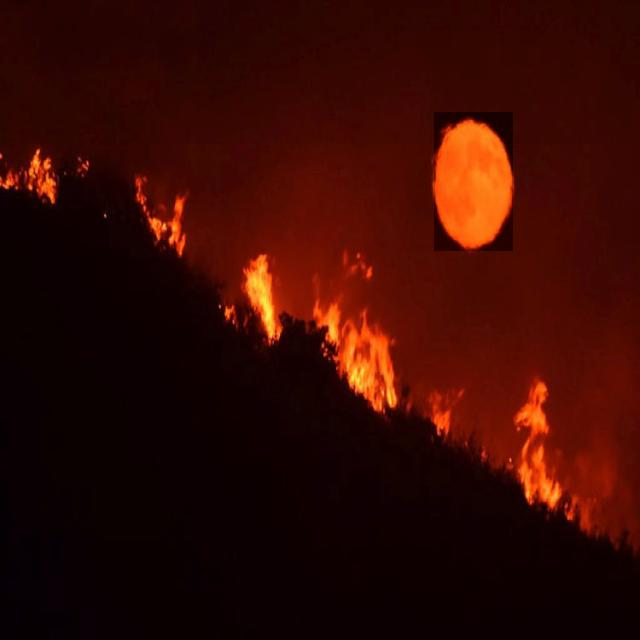Fire: (0, 144, 632, 541), (434, 112, 513, 251)
